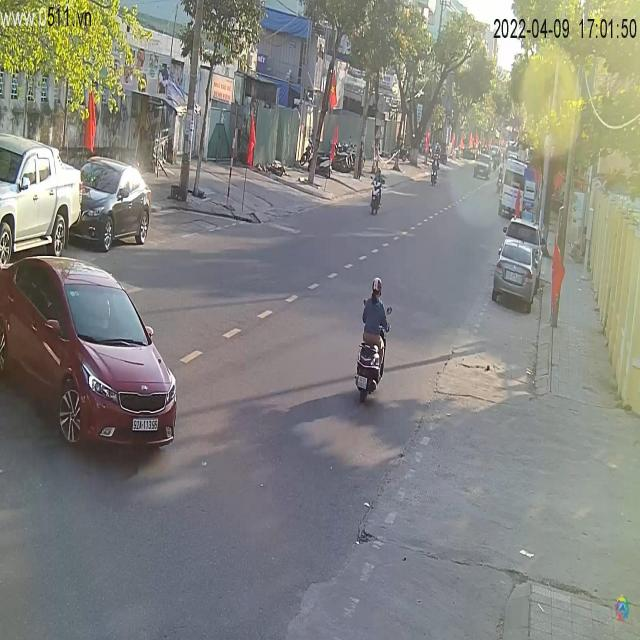car: (1, 253, 182, 448), (1, 130, 83, 270), (73, 157, 156, 253), (491, 238, 543, 316)
motorcycle: (354, 336, 387, 399), (370, 174, 385, 215)
